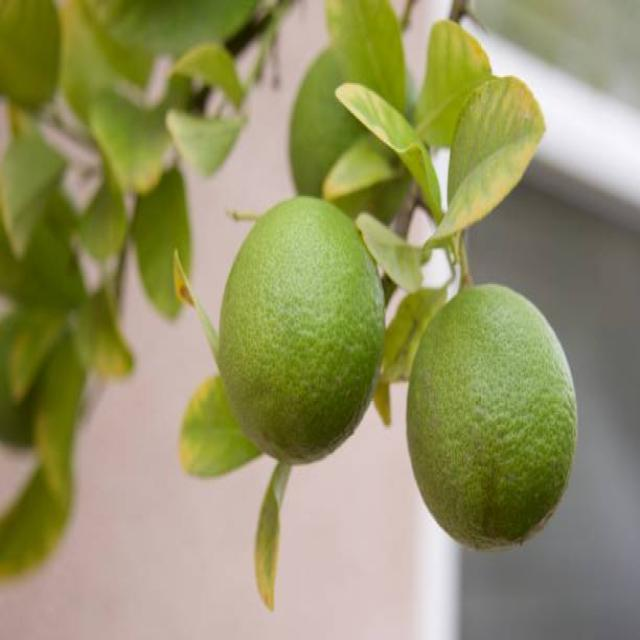Unripe: (406, 281, 577, 554), (218, 194, 386, 464)
